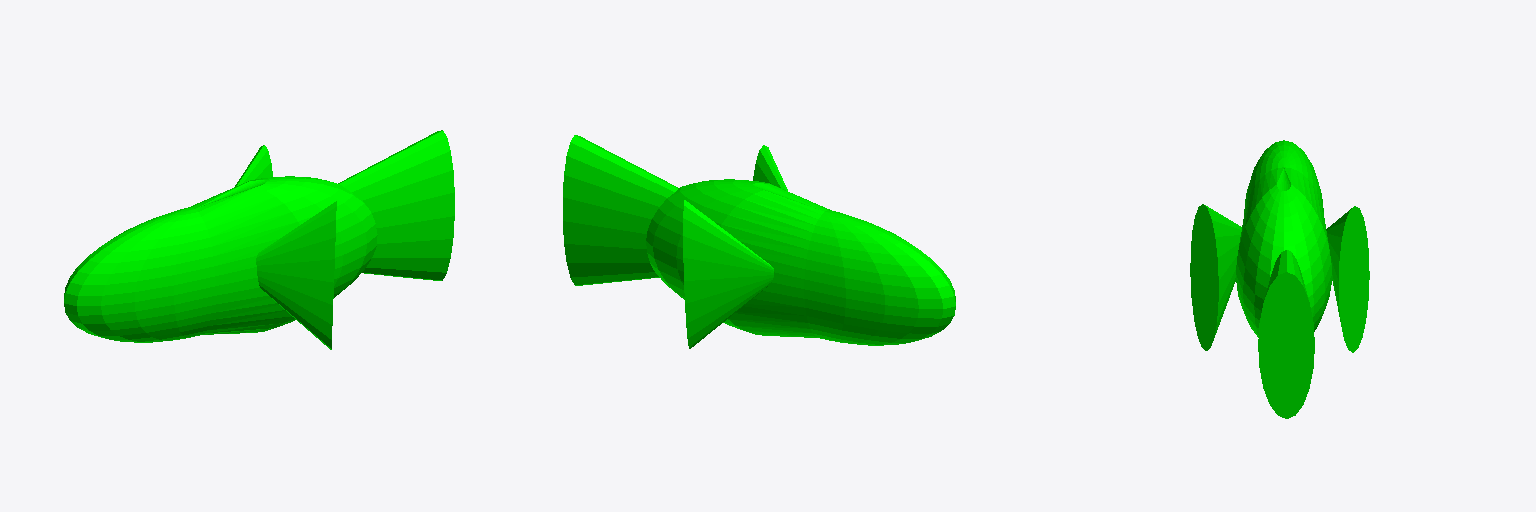
Rendered from fish3.obj.
3 views of the same model, side by side, from view 1: azimuth 30°, elevation 25°; view 2: azimuth 150°, elevation 25°; view 3: azimuth 270°, elevation 25° (orthographic).
Visible parts, largest first — view 1: pCone4; view 2: pCone4; view 3: pCone4.
Boxes of the visible parts, x1=… form: pCone4: x1=64, y1=130, x2=454, y2=349; pCone4: x1=563, y1=135, x2=955, y2=348; pCone4: x1=1190, y1=140, x2=1369, y2=418.
Size of the model in its own units: 543 by 209 by 221.